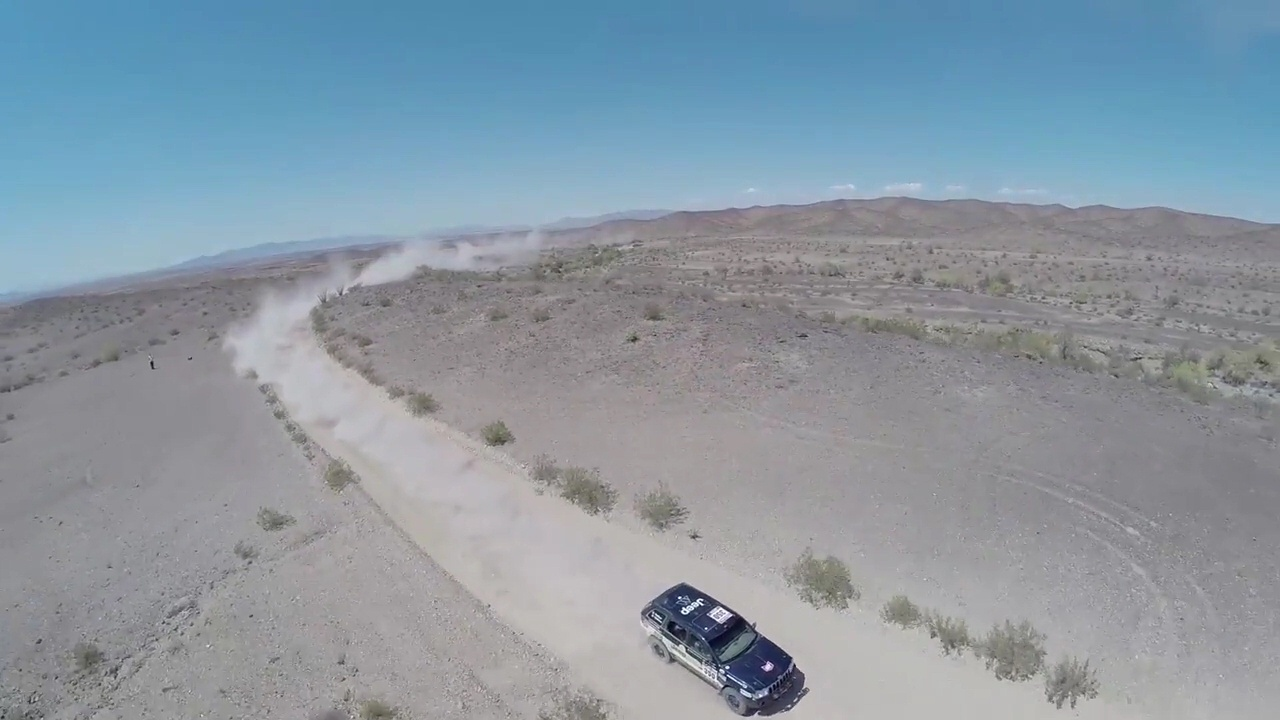araba: (641, 580, 810, 720)
